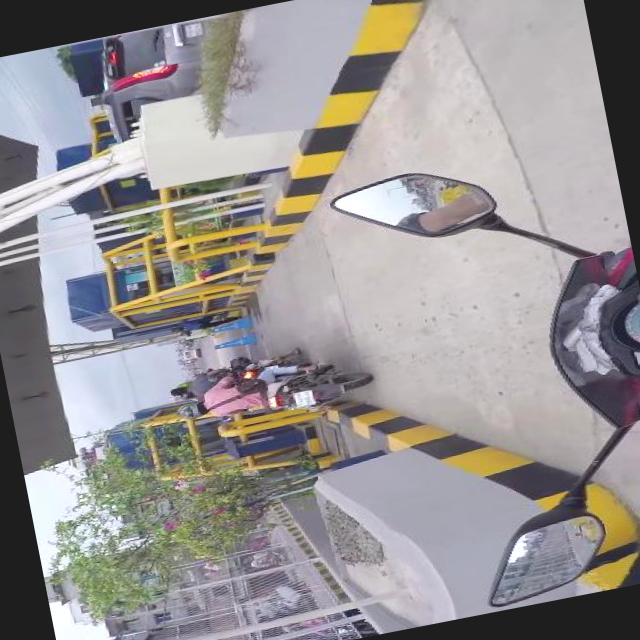car: (94, 20, 208, 110), (96, 86, 134, 136), (263, 576, 313, 611)
motorcycle: (313, 135, 640, 621), (174, 352, 376, 432), (176, 349, 308, 392), (279, 603, 382, 640), (248, 544, 294, 569)
truck: (180, 347, 200, 360)
